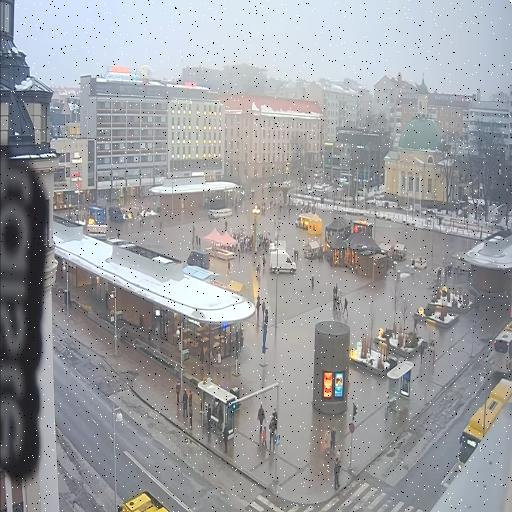bus: (459, 378, 512, 467), (493, 321, 512, 375), (122, 492, 169, 511)
